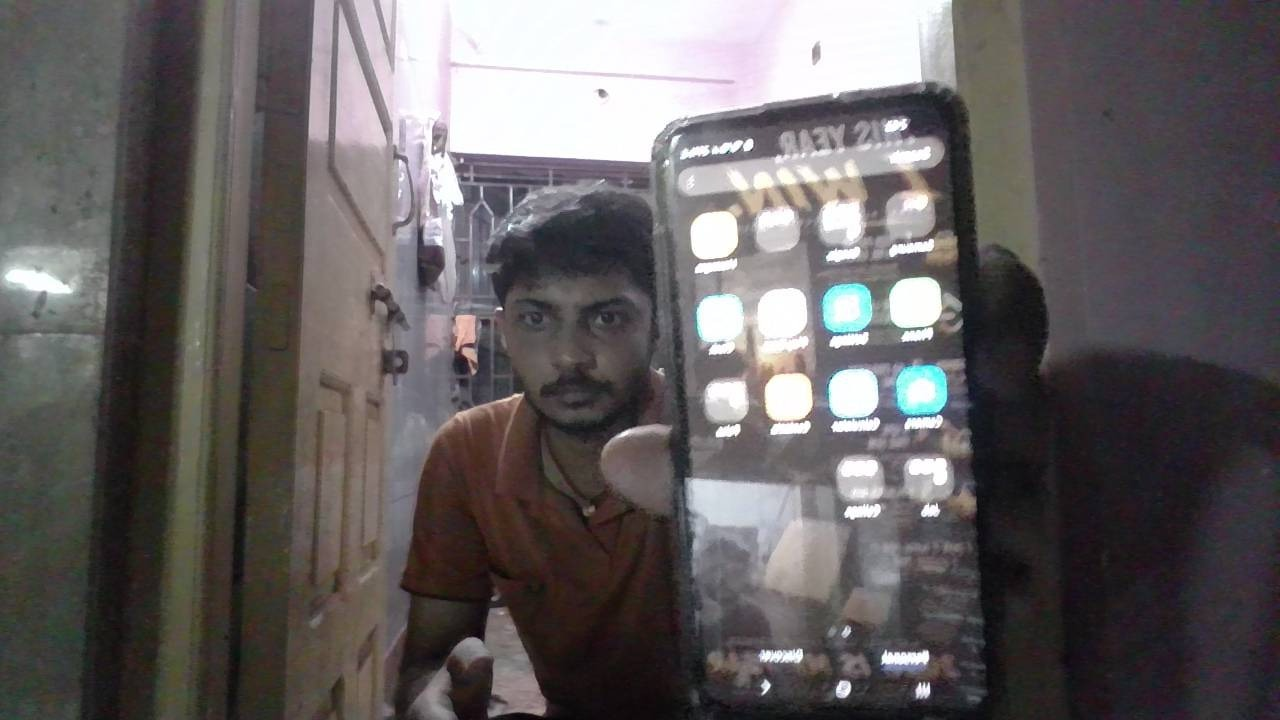red_box: (421, 415, 580, 563)
